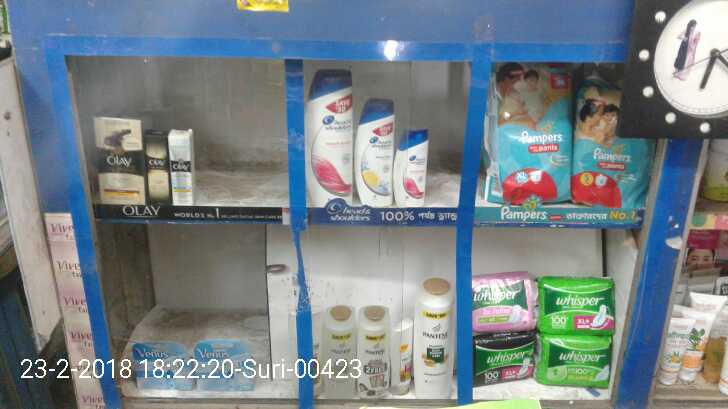venus: (134, 342, 196, 384), (196, 340, 254, 384)
